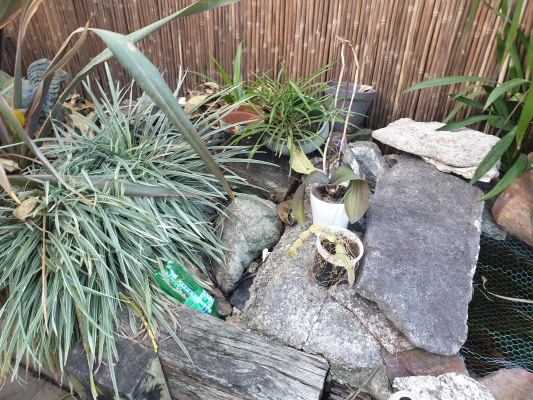Plastic Bottle: (154, 260, 220, 319)
